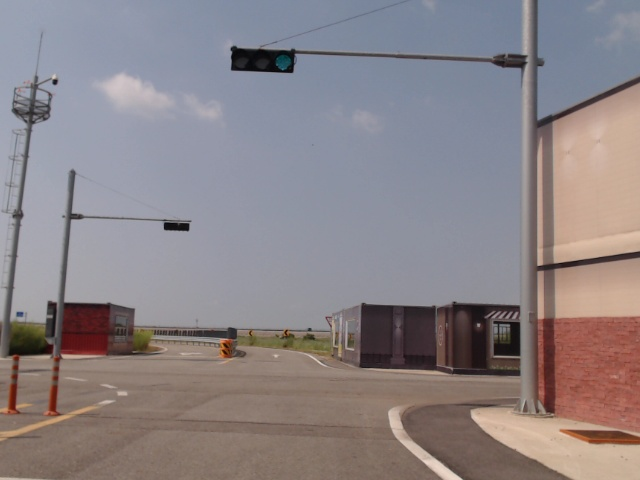green_3: (232, 47, 294, 74)
